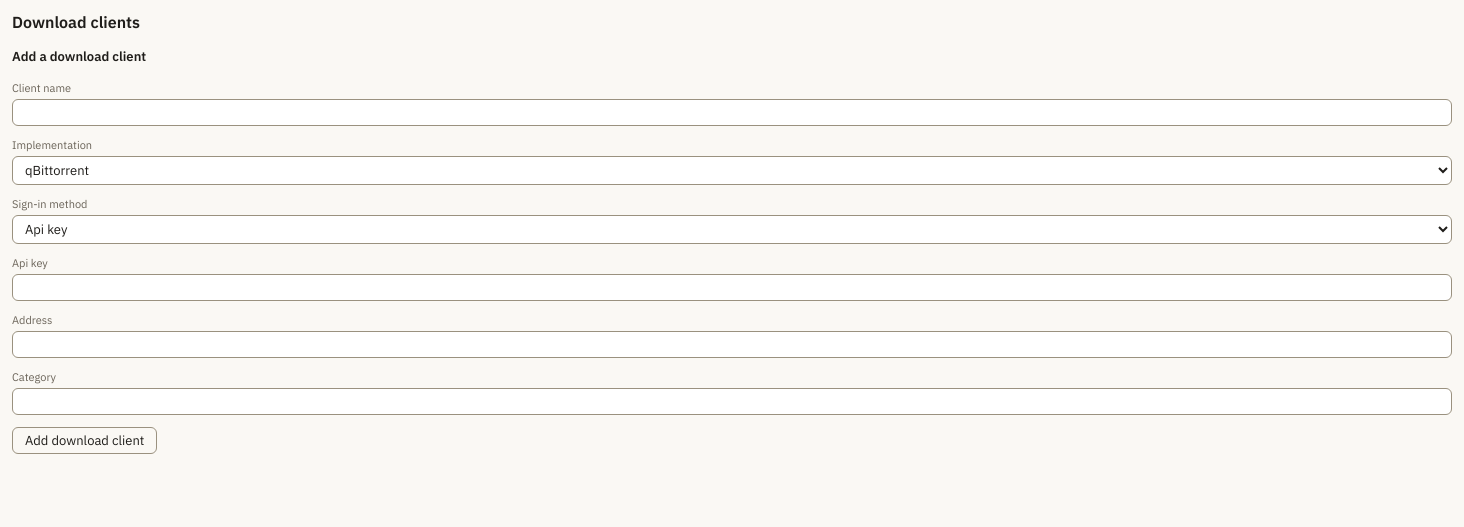
Test: the error is legible: the sentence is rendered text, not only an accessible name
Type "Seedbox" into the field labelled "Client name" at [732, 112], box [12,99,1452,126]
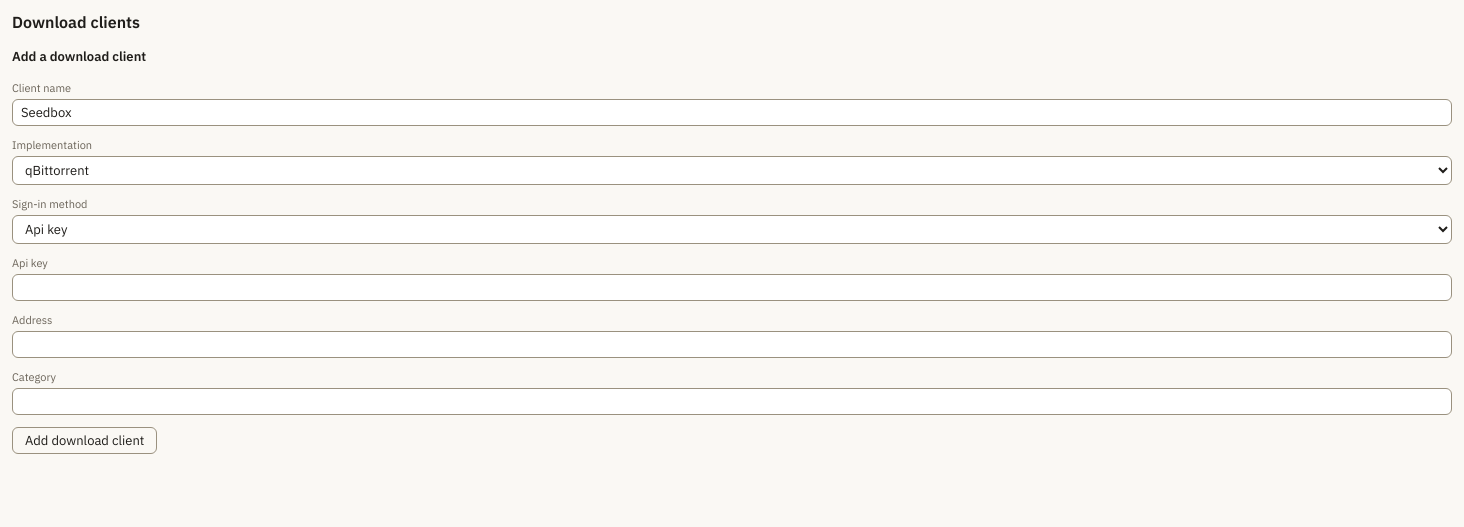
Type "http://qbit.example:8080" into the field labelled "Address" at [732, 344], box [12,331,1452,358]
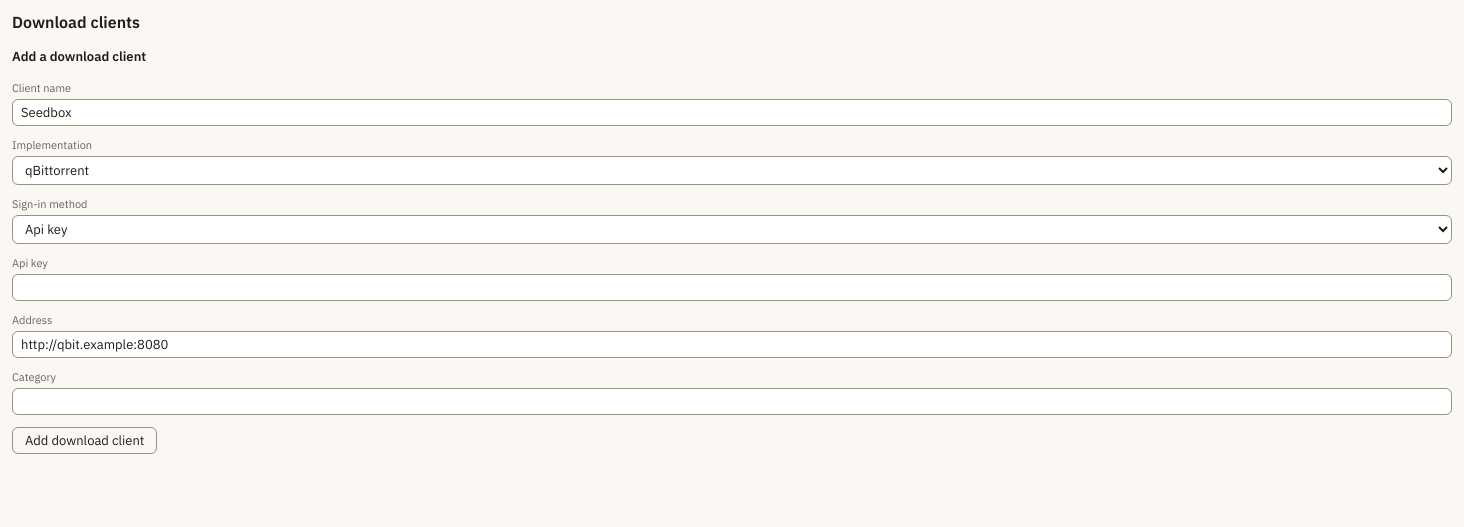
Type "test-api-key-c4f2a1" into the password field labelled "Api key" at [732, 288], box [12,274,1452,301]
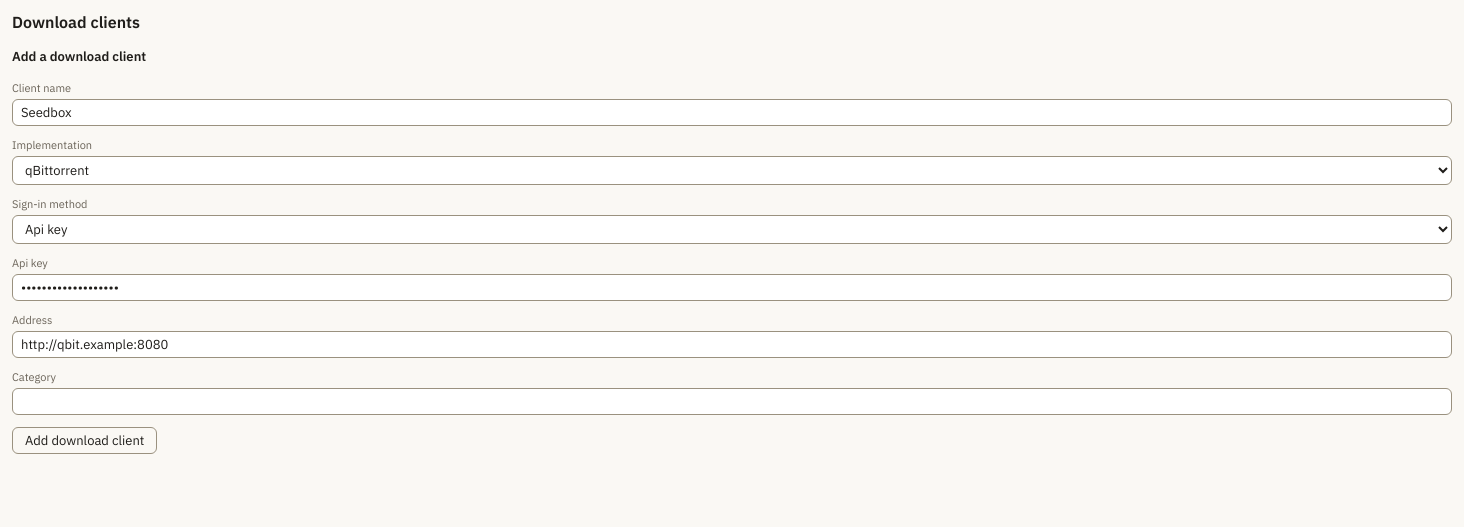
Click the button "Add download client" at [85, 440], box [12,427,157,454]
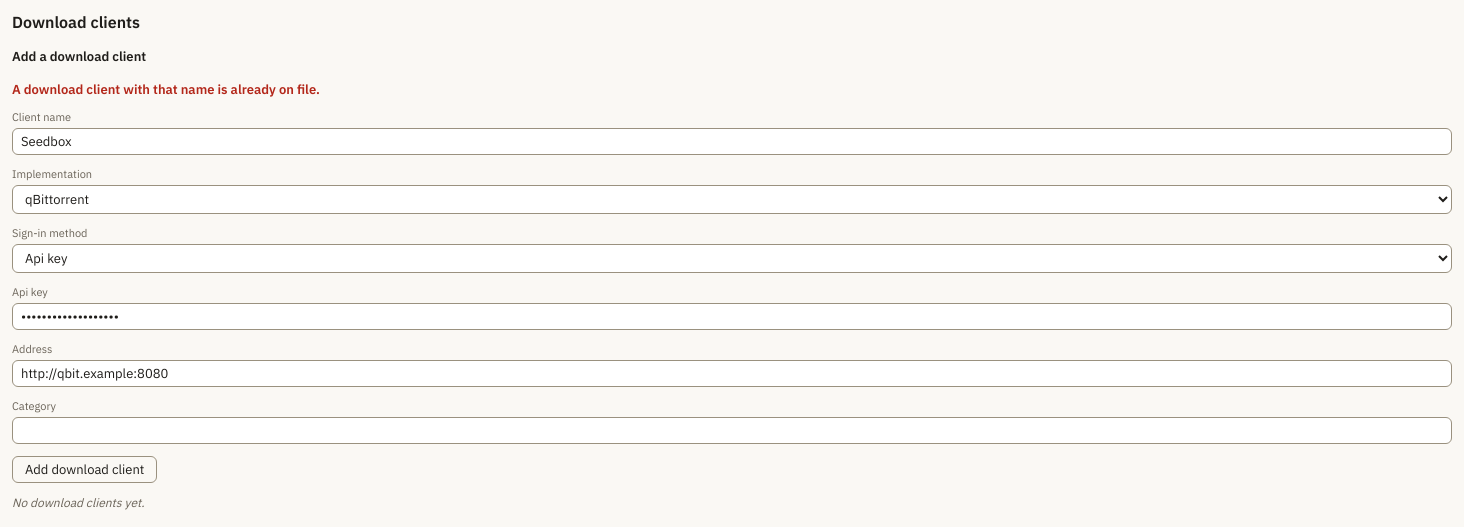
Now the heading "A download client with that name is already on file." is shown, box [12,81,320,98]
